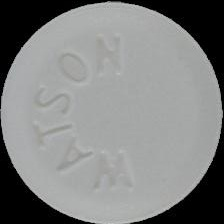54868-4778: (0, 0, 224, 224)
